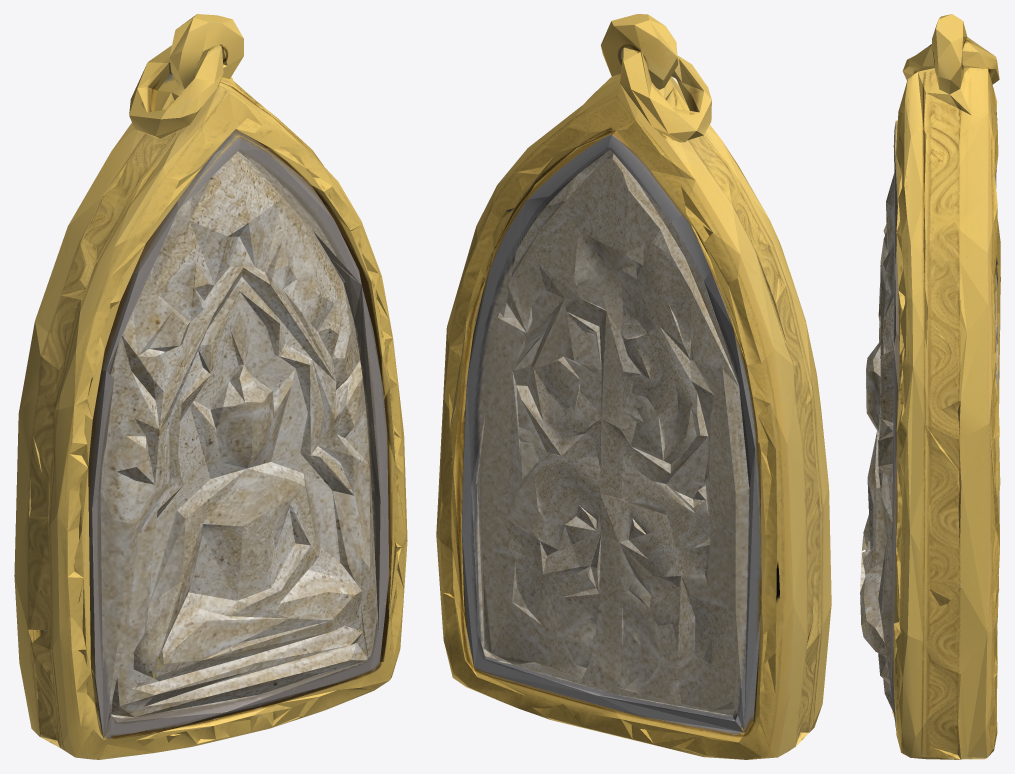
Rendered from remeshed-khunpaen.glb.
The picture shows the model from 3 angles, left to right: view 1: azimuth 30°, elevation 25°; view 2: azimuth 150°, elevation 25°; view 3: azimuth 270°, elevation 25°; orthographic projection. The views are drawn at different scales.
Parts seen in each view (by area): view 1: output_unwrapped; view 2: output_unwrapped; view 3: output_unwrapped.
Boxes of the visible parts, box(x1,y1,x2,y2) form: output_unwrapped: box(14, 14, 407, 759); output_unwrapped: box(436, 14, 831, 759); output_unwrapped: box(860, 14, 1000, 759).
Size of the model in its own units: 0.9974 by 1.9 by 0.3551.
1 material, 1 textured.
